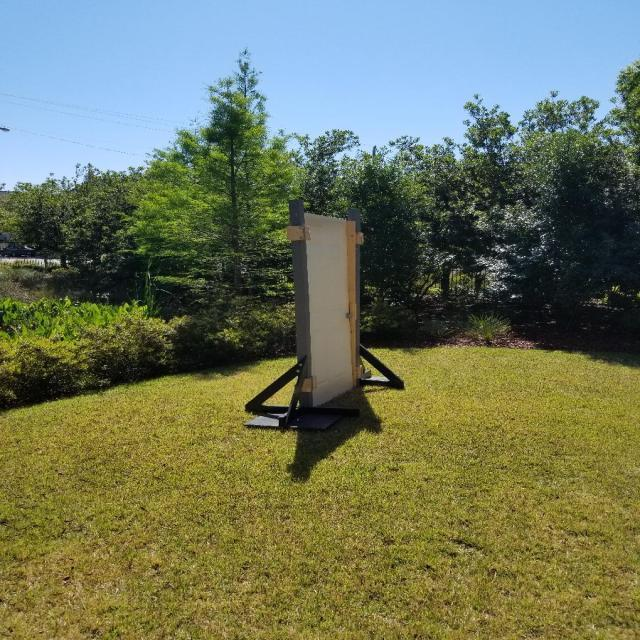door: (301, 211, 355, 410), (346, 309, 354, 320)
